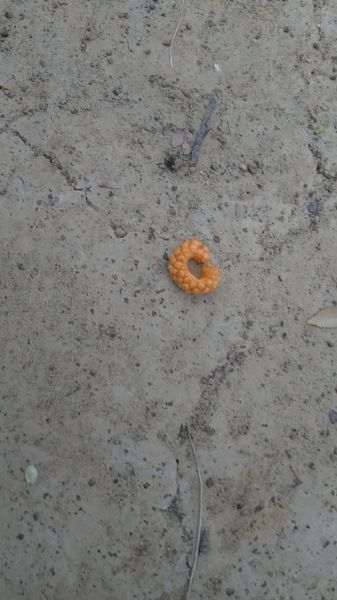eggs: (165, 235, 221, 302)
